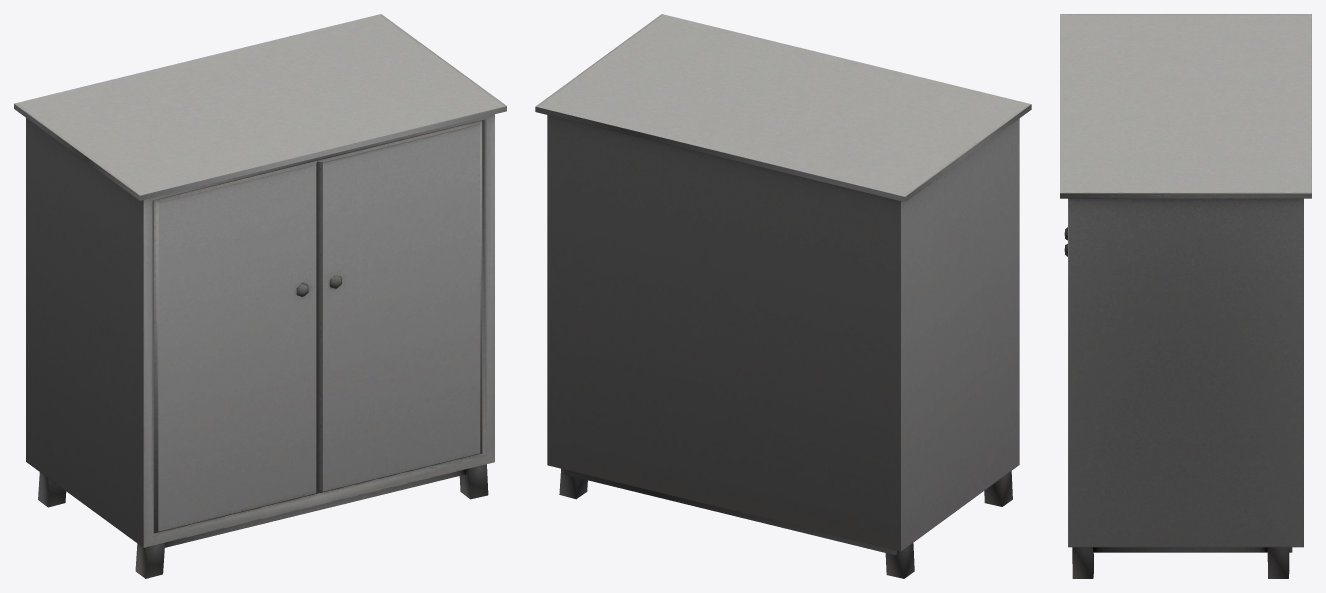
Rendered from SM_White_Cabinet.FBX.
3 views of the same model, side by side, from view 1: azimuth 30°, elevation 25°; view 2: azimuth 150°, elevation 25°; view 3: azimuth 270°, elevation 25° (orthographic).
Parts seen in each view (by area): view 1: SM_White_Cabinet; view 2: SM_White_Cabinet; view 3: SM_White_Cabinet.
Boxes of the visible parts, <box> form: SM_White_Cabinet: <box>14,14,506,578</box>; SM_White_Cabinet: <box>535,14,1031,578</box>; SM_White_Cabinet: <box>1060,14,1311,578</box>.
Bounding box in the file's own units: 82.48 × 48.91 × 83.91.
